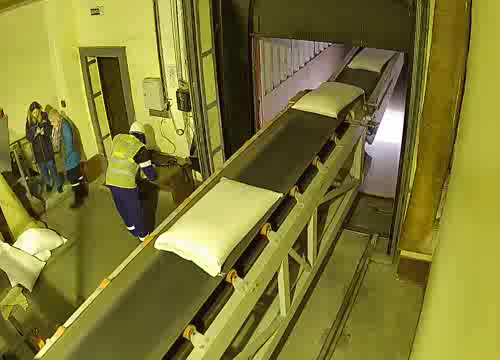bag: (155, 176, 285, 279), (290, 80, 366, 117), (347, 45, 397, 73)
